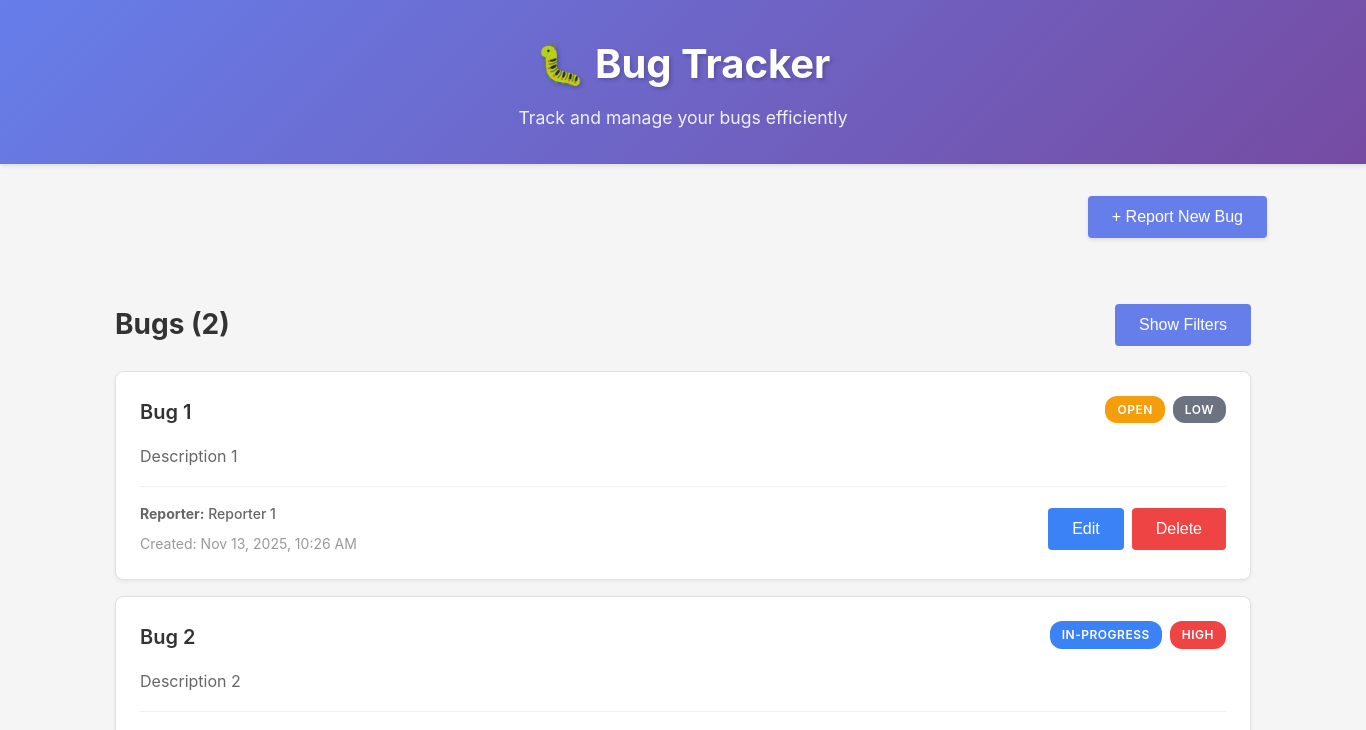
App Component › Navigation to Form › should show form when "Report New Bug" button is clicked
The image size is (1366, 730).
Click the button "+ Report New Bug": (1177, 217) top-left (1088, 196), bottom-right (1267, 238)
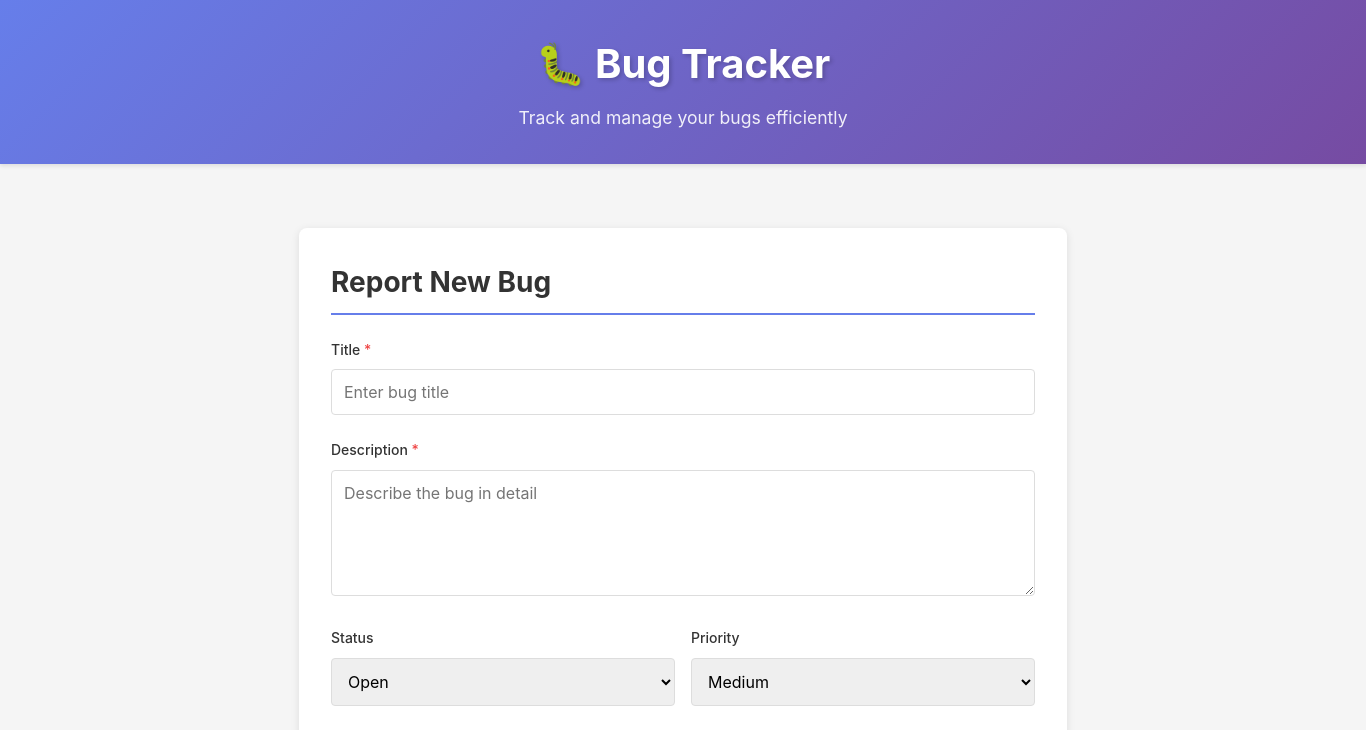
expect the heading "Report New Bug" is shown: met, box top-left (331, 260), bottom-right (1035, 315)
expect the heading "Bugs (2)" is gone: met
